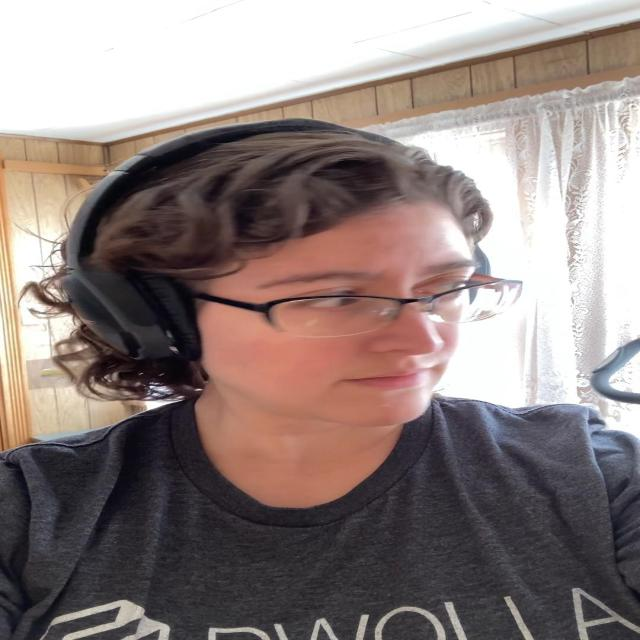no-helmet: (182, 198, 483, 427)
